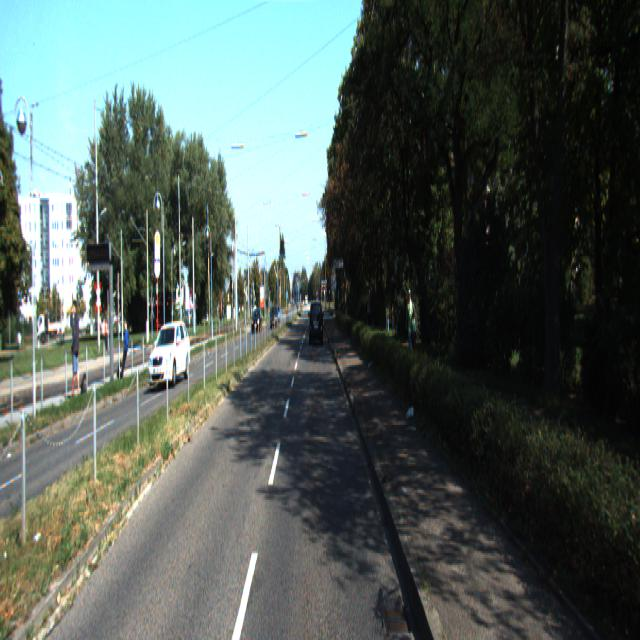Car: (148, 319, 192, 389), (310, 300, 324, 346)
